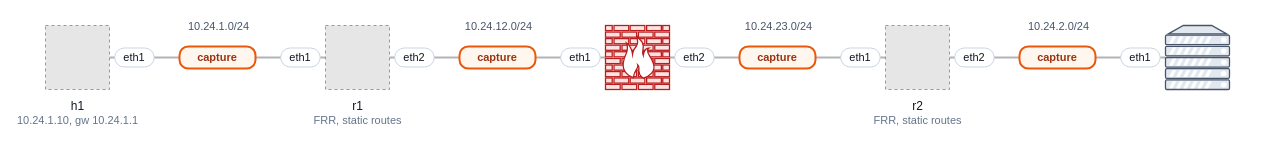
Some shapes in this 1263 by 147 pixel diagram are drawn without their labels. Grey dashed boxes stand in for pictures. The shapes that lost their labels are listed below. From the top down, each one's centre as x and y in pixels, then its label:
At [637,57]: "fw Linux nftables, routes".
At [1197,57]: "h2 10.24.2.20, web :80".
